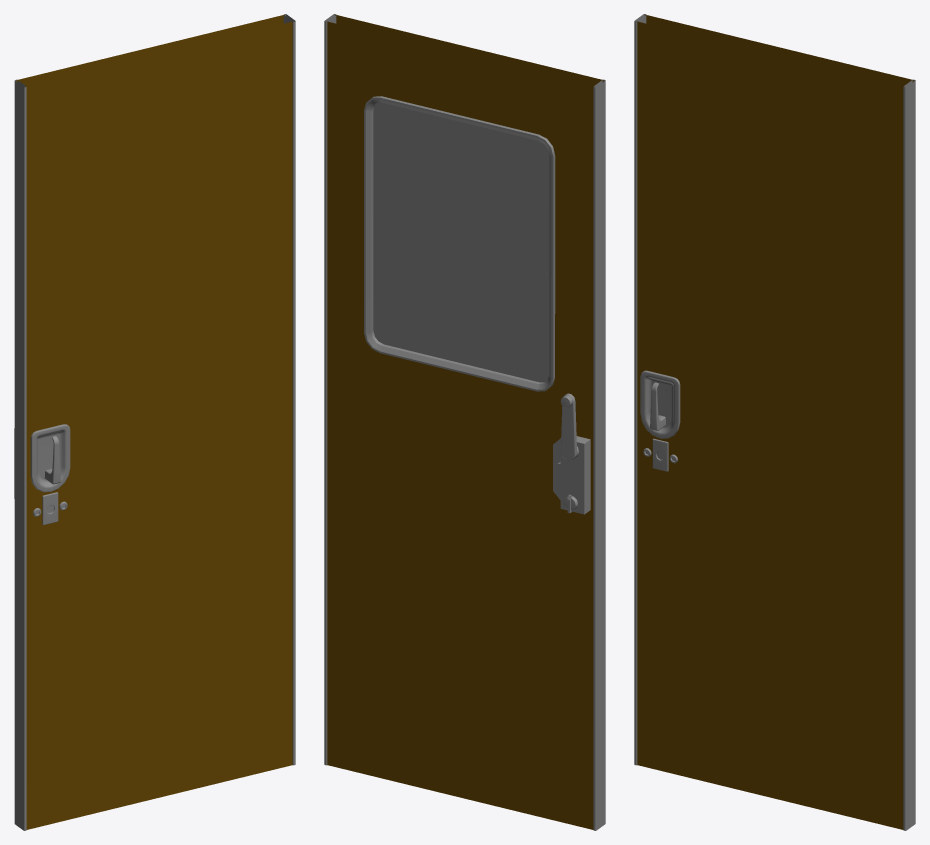
Rendered from SM_train_door.fbx.
3 views of the same model, side by side, from view 1: azimuth 30°, elevation 25°; view 2: azimuth 150°, elevation 25°; view 3: azimuth 330°, elevation 25° (orthographic).
Visible parts, largest first — view 1: SM_train_door; view 2: SM_train_door; view 3: SM_train_door.
Part boxes in pixels (left/top/right/bottom): SM_train_door: left=14, top=14, right=295, bottom=830; SM_train_door: left=324, top=14, right=605, bottom=830; SM_train_door: left=634, top=14, right=915, bottom=830.
Bounding box in the file's own units: 86.65 × 227 × 15.93.
